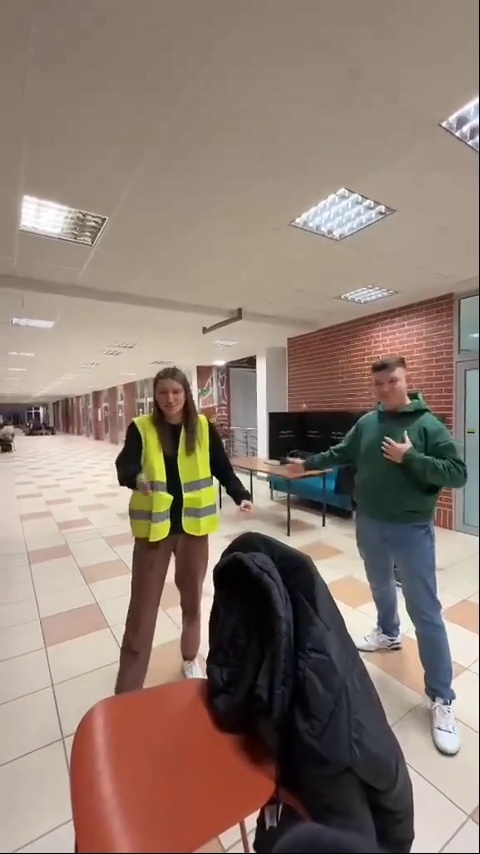no vest: (286, 357, 473, 766)
vest: (120, 371, 243, 676)
